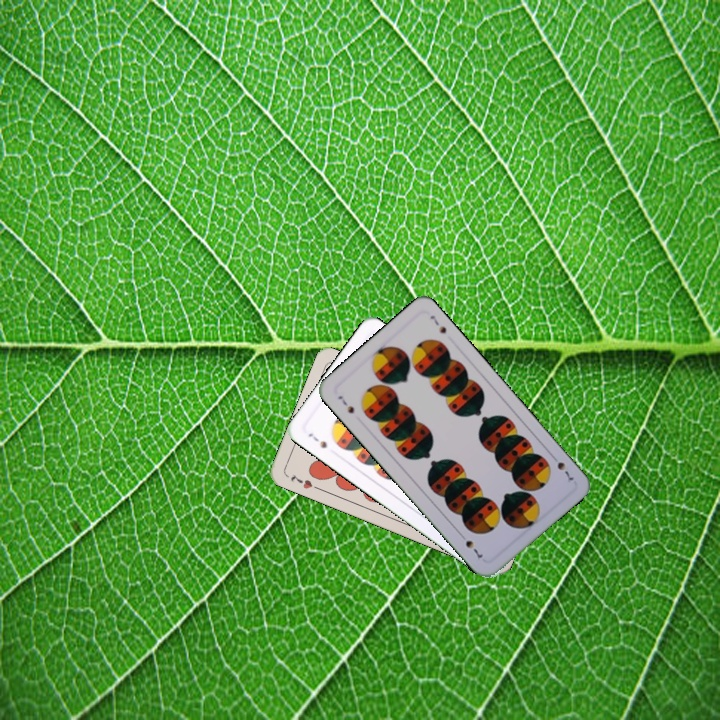H7: (286, 470, 322, 492)
S7: (547, 450, 576, 484), (334, 391, 357, 416), (304, 429, 329, 451)
